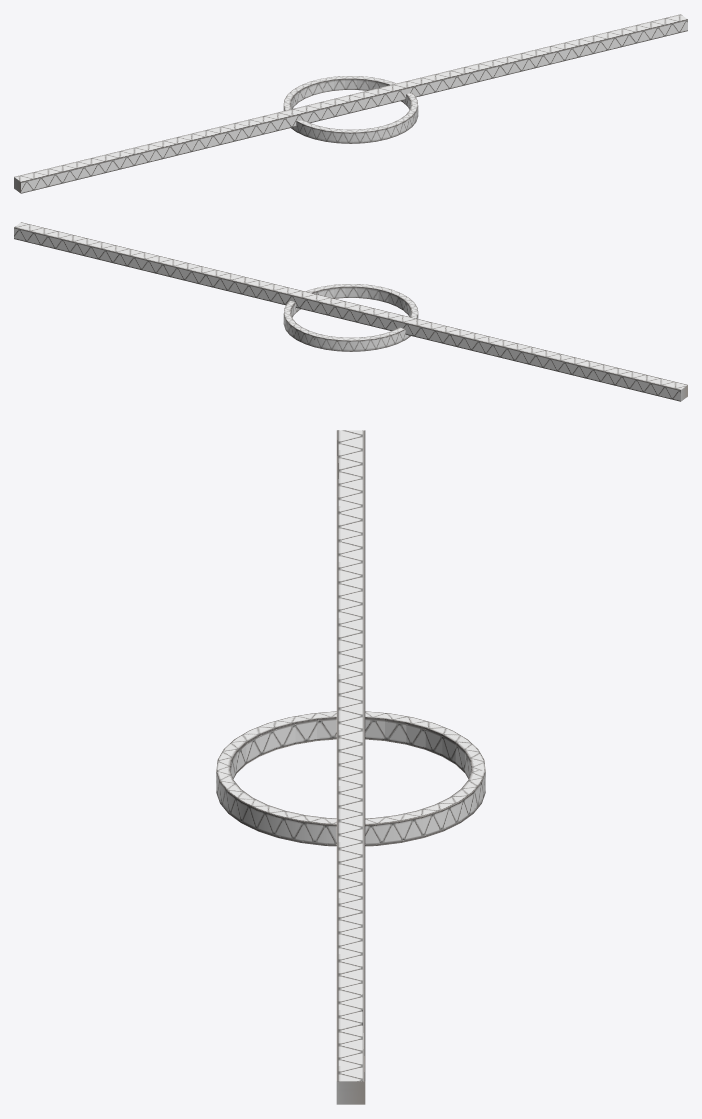
File: Truss.fbx
The picture shows the model from 3 angles, top to bottom: view 1: azimuth 30°, elevation 25°; view 2: azimuth 150°, elevation 25°; view 3: azimuth 270°, elevation 25°; orthographic projection. The views are drawn at different scales.
Visible parts, largest first — view 1: Box002, Cylinder003; view 2: Box002, Cylinder003; view 3: Box002, Cylinder003.
Boxes of the visible parts, x1=… form: Box002: x1=14, y1=14, x2=687, y2=193; Cylinder003: x1=283, y1=76, x2=418, y2=143; Box002: x1=14, y1=222, x2=687, y2=401; Cylinder003: x1=283, y1=284, x2=418, y2=351; Box002: x1=336, y1=430, x2=365, y2=1104; Cylinder003: x1=216, y1=711, x2=485, y2=846.
Bounding box in the file's own units: 54 × 1.33 × 9.44.
